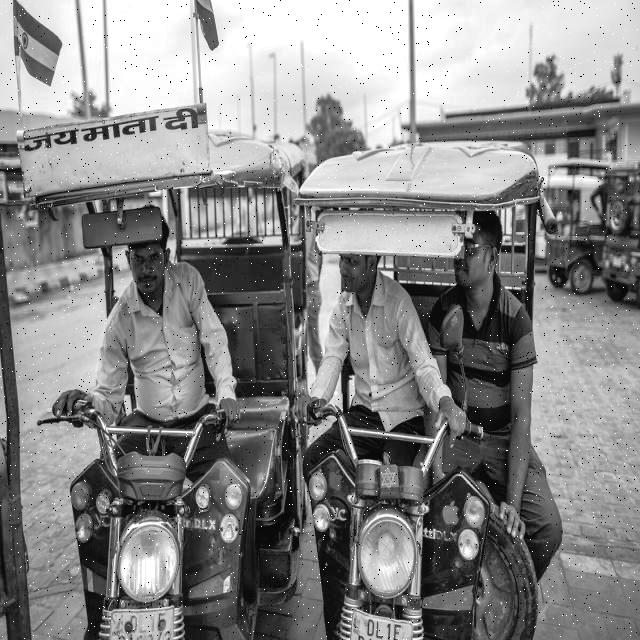Toto: (53, 145, 302, 640), (305, 141, 534, 640), (597, 159, 640, 301)
